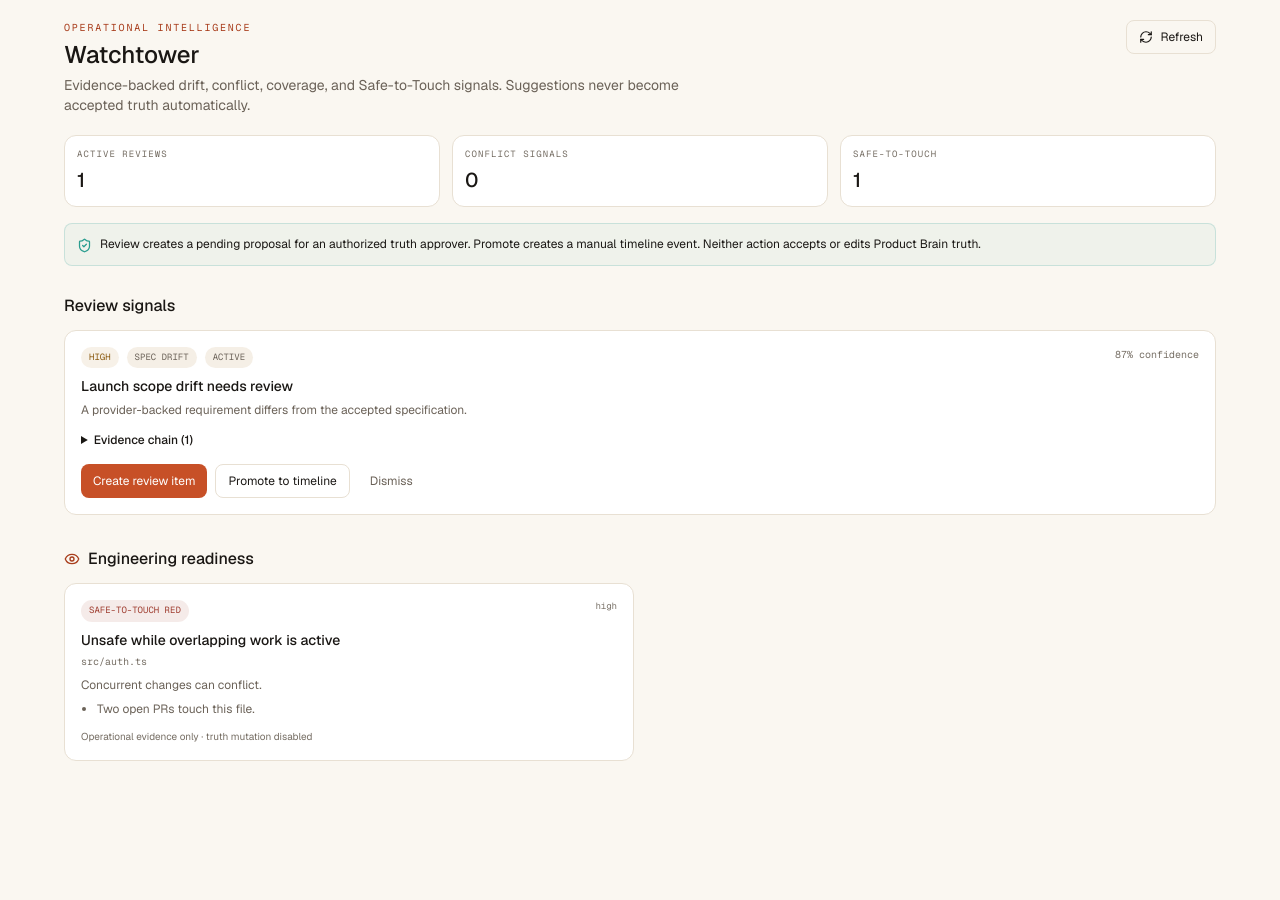
Test: [FIX-23] Watchtower authoritative actions › reloads authoritative state after creating a pending review
The width and height of the screenshot is (1280, 900).
What coordinates should you click on to do the following:
click the button "Create review item"
I would click on:
 (144, 481)
Its box is [81,464,207,498].
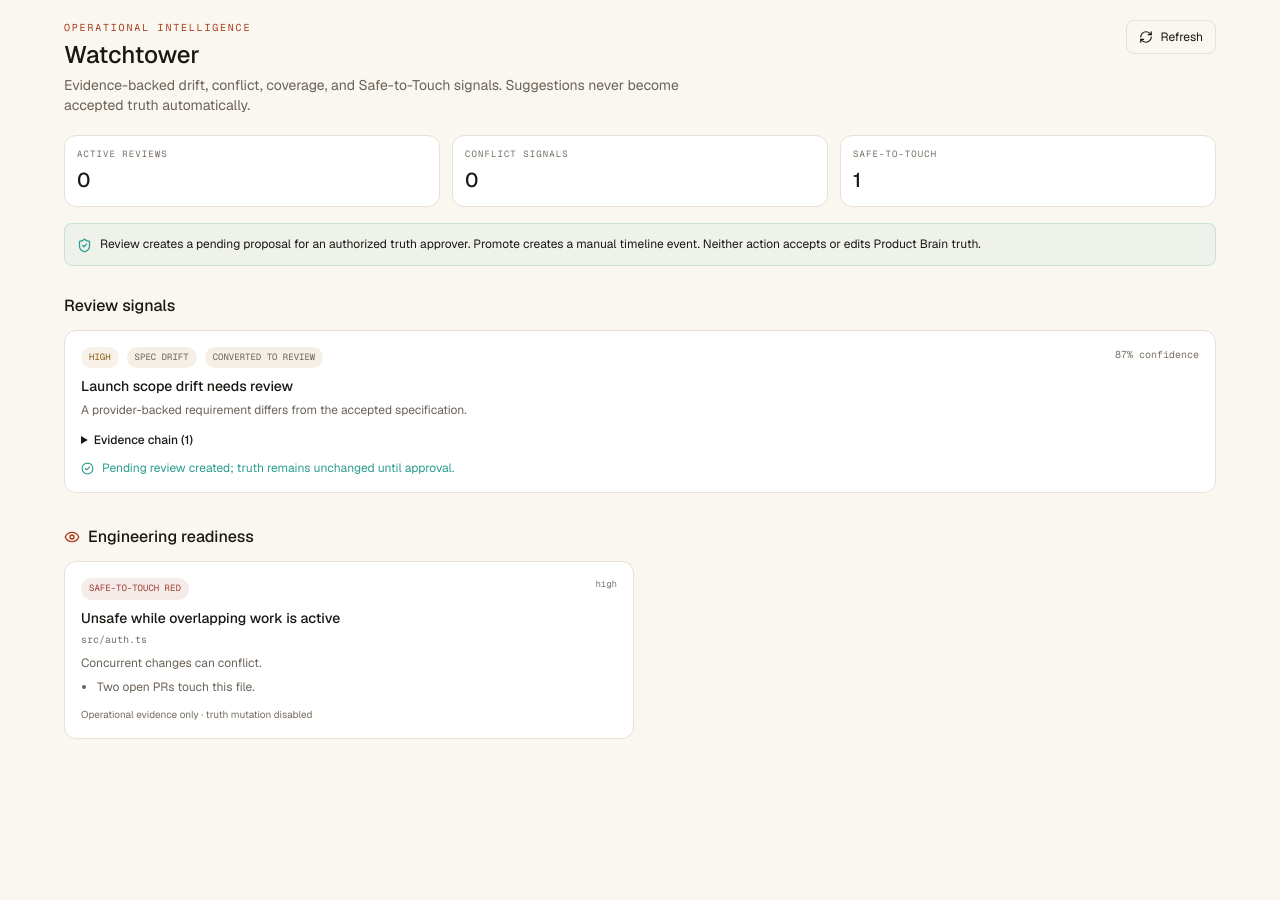
Expected: the text "truth remains unchanged until approval" is shown, [102,460,454,476]
